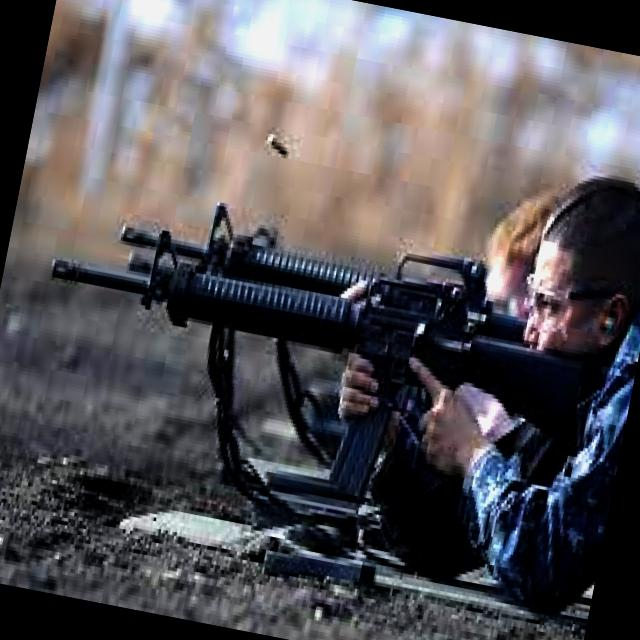m16: (1, 162, 612, 554)
